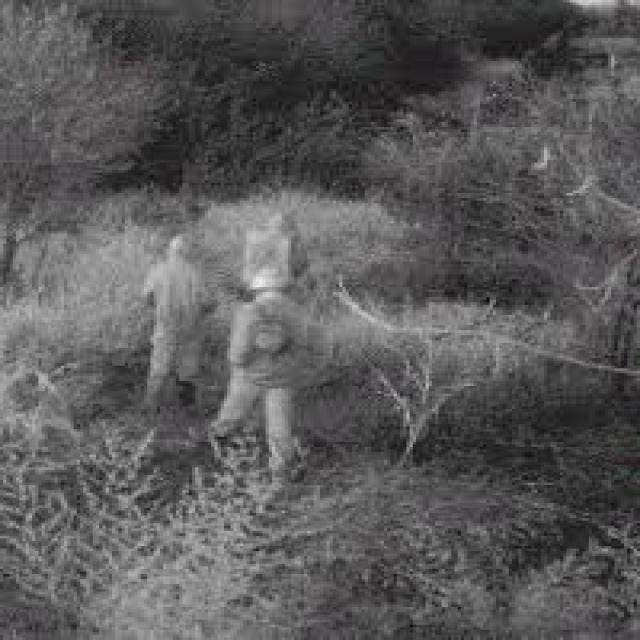poacher: (71, 218, 220, 487), (233, 192, 334, 422), (238, 258, 348, 460)
